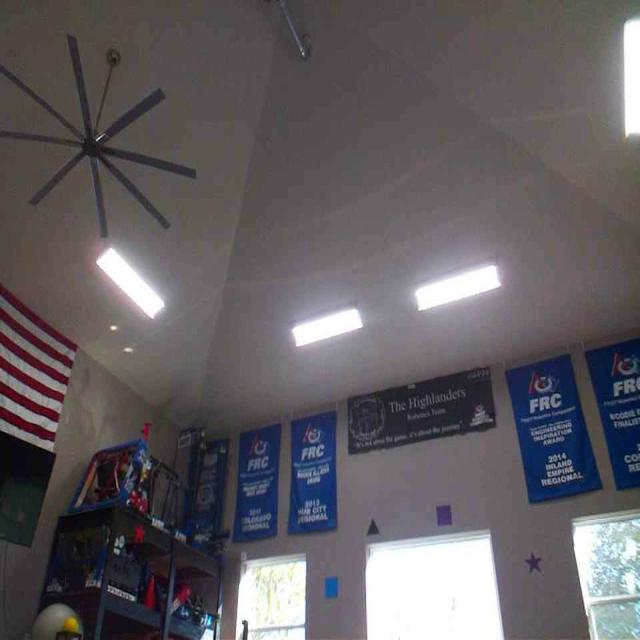square_blue: (322, 575, 339, 599)
square_purple: (435, 502, 452, 524)
star_purple: (524, 550, 541, 572)
triangle_black: (367, 516, 380, 534)
